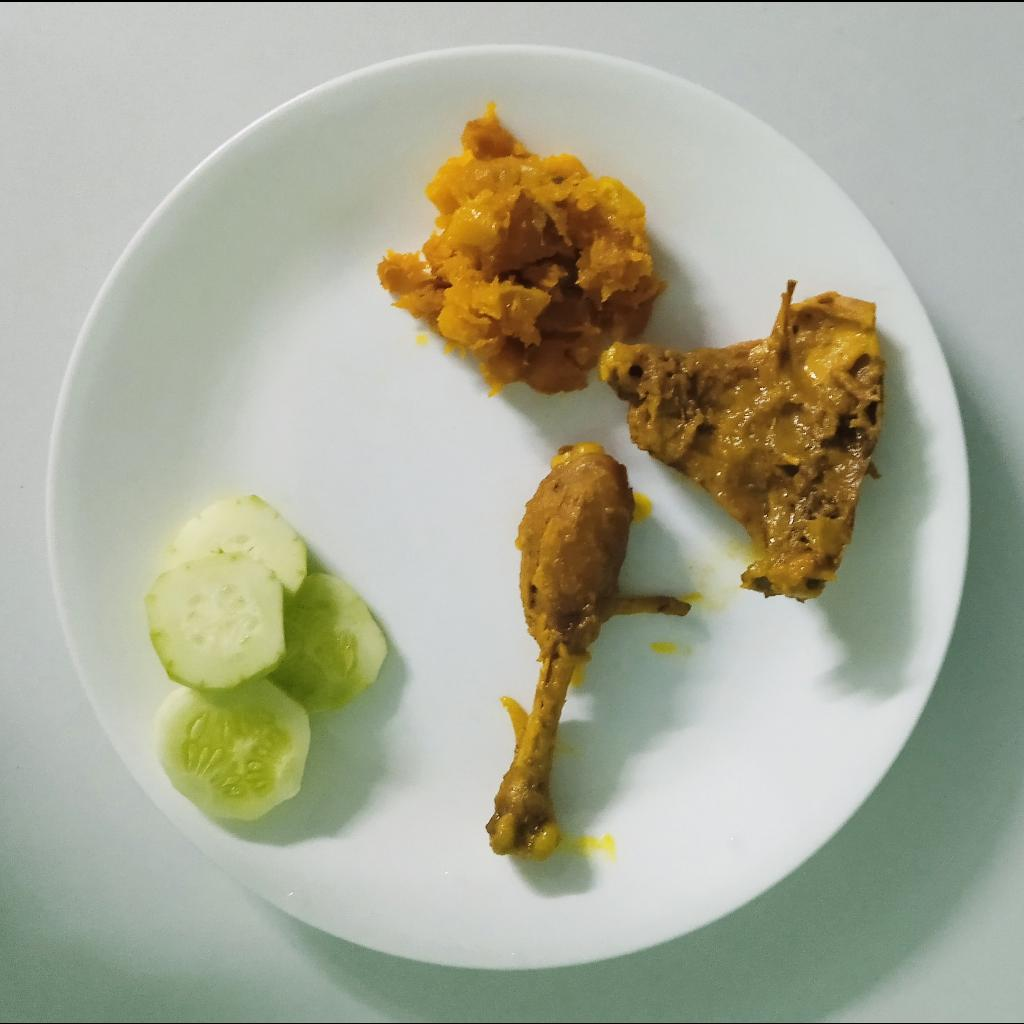chicken: (603, 277, 885, 595), (486, 438, 694, 861)
cucumber: (146, 491, 389, 824)
kumra-vaji: (375, 106, 667, 396)
